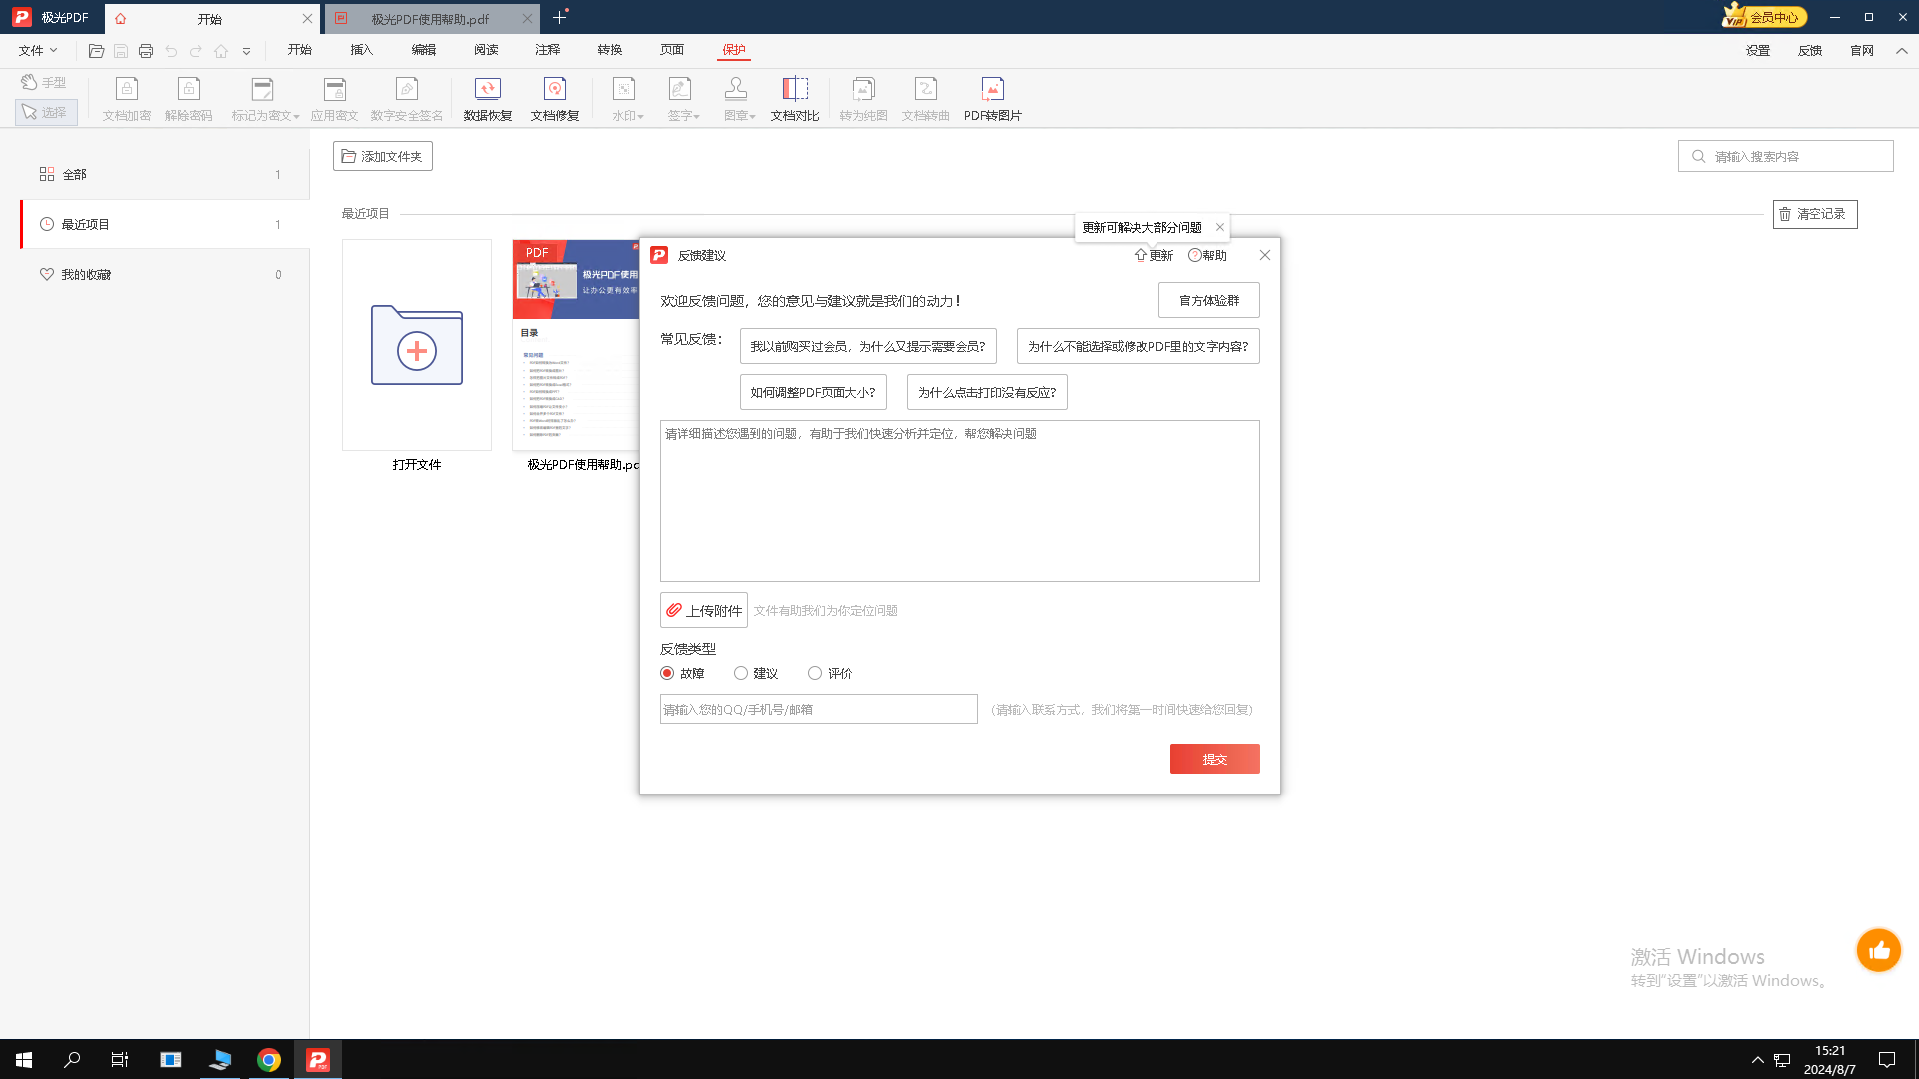Clickable: (659, 690, 977, 725), (1157, 281, 1259, 314), (656, 594, 751, 628), (1169, 740, 1260, 775), (1178, 238, 1236, 275), (1127, 245, 1181, 271), (1242, 242, 1278, 281)
Root: (641, 238, 1280, 794)
Selectable: (738, 325, 998, 365), (1021, 325, 1260, 362), (905, 369, 1069, 412), (738, 368, 888, 412), (726, 656, 754, 692), (797, 657, 826, 688), (654, 657, 680, 686)
